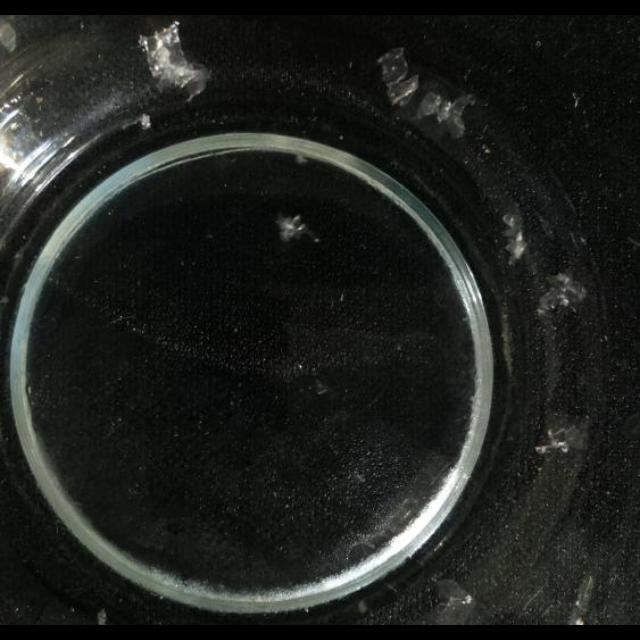Fibre: (379, 49, 475, 145), (138, 22, 210, 102), (537, 272, 589, 318), (567, 574, 595, 624), (276, 214, 318, 244), (501, 215, 527, 261), (535, 430, 571, 456), (138, 112, 152, 130), (96, 608, 108, 624), (294, 154, 308, 164), (572, 92, 580, 108)
microbeads: (352, 470, 366, 484), (464, 595, 474, 605), (296, 362, 304, 371), (339, 292, 345, 302)
